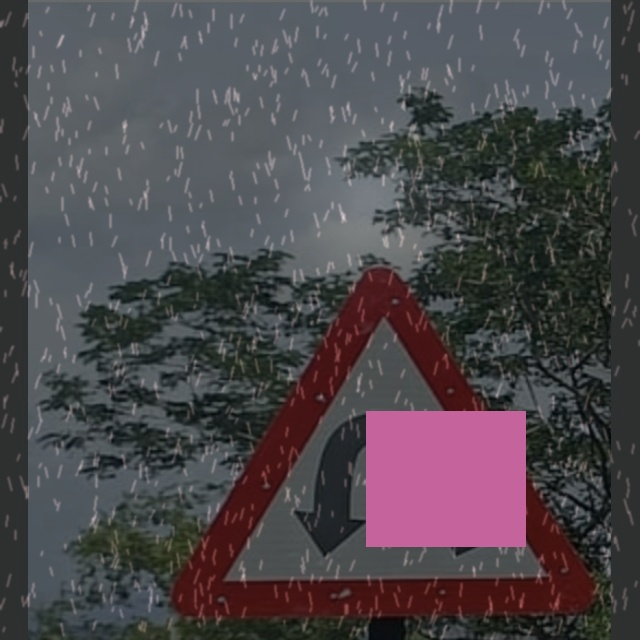Left_Hair_Pin_Bend: (172, 256, 602, 617)
